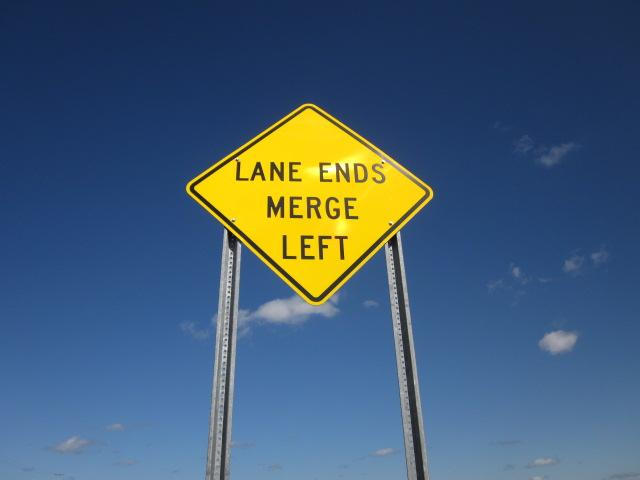warning: (180, 96, 442, 307)
